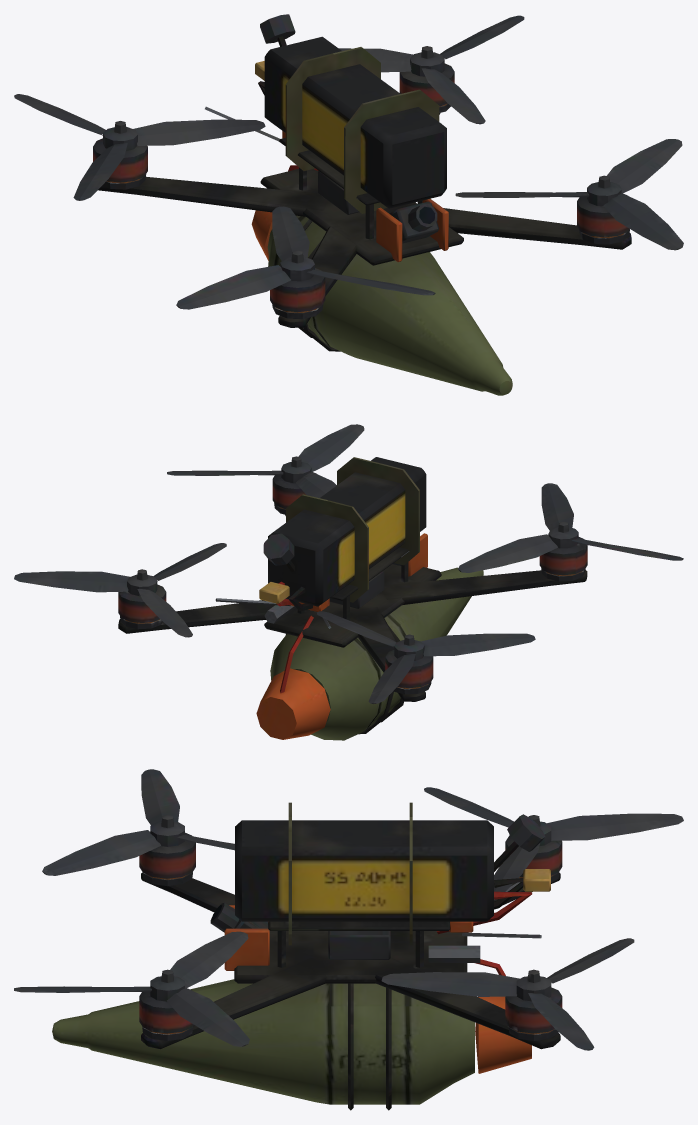
Rendered from fpv_drone.glb.
3 renders of one model, top to bottom at view 1: azimuth 30°, elevation 25°; view 2: azimuth 150°, elevation 25°; view 3: azimuth 270°, elevation 25°, orthographic. The views are drawn at different scales.
Parts seen in each view (by area): view 1: fpv_drone_mesh, prop_2_mesh, prop_0_mesh, prop_1_mesh, prop_3_mesh; view 2: fpv_drone_mesh, prop_3_mesh, prop_2_mesh, prop_1_mesh, prop_0_mesh; view 3: fpv_drone_mesh, prop_3_mesh, prop_0_mesh, prop_1_mesh, prop_2_mesh.
Boxes of the visible parts, box(x1,y1,x2,y2) form: fpv_drone_mesh: box(93, 14, 631, 395); prop_2_mesh: box(14, 94, 265, 200); prop_0_mesh: box(455, 139, 683, 250); prop_1_mesh: box(176, 206, 435, 309); prop_3_mesh: box(339, 15, 524, 124); fpv_drone_mesh: box(118, 457, 587, 740); prop_3_mesh: box(14, 543, 226, 637); prop_2_mesh: box(316, 611, 535, 703); prop_1_mesh: box(458, 483, 683, 572); prop_0_mesh: box(167, 424, 364, 497); fpv_drone_mesh: box(52, 802, 562, 1110); prop_3_mesh: box(381, 938, 634, 1050); prop_0_mesh: box(14, 931, 249, 1046); prop_1_mesh: box(42, 769, 234, 875); prop_2_mesh: box(424, 787, 683, 891).
Size of what is drawn, in the model's own units: 0.3849 by 0.1835 by 0.388.
Materials: 1 (1 with a texture image).
